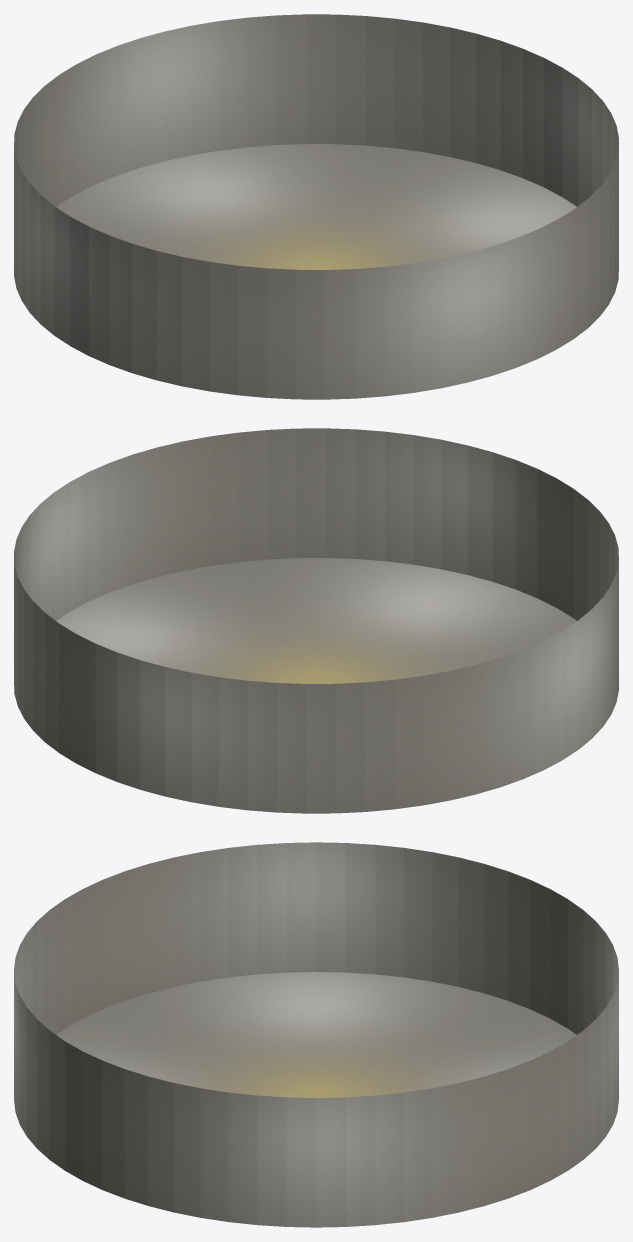
Rendered from chibi_avatar_room.obj.
3 renders of one model, top to bottom at view 1: azimuth 30°, elevation 25°; view 2: azimuth 150°, elevation 25°; view 3: azimuth 270°, elevation 25°, orthographic.
Parts seen in each view (by area): view 1: Cylinder_Cylinder.001; view 2: Cylinder_Cylinder.001; view 3: Cylinder_Cylinder.001.
Boxes of the visible parts, x1,y1,x2,y2 form: Cylinder_Cylinder.001: (14, 14, 618, 399); Cylinder_Cylinder.001: (14, 428, 618, 813); Cylinder_Cylinder.001: (14, 842, 618, 1227).
Size of the model in its own units: 34.25 by 8.09 by 34.25.
Materials: 1 (1 with a texture image).
